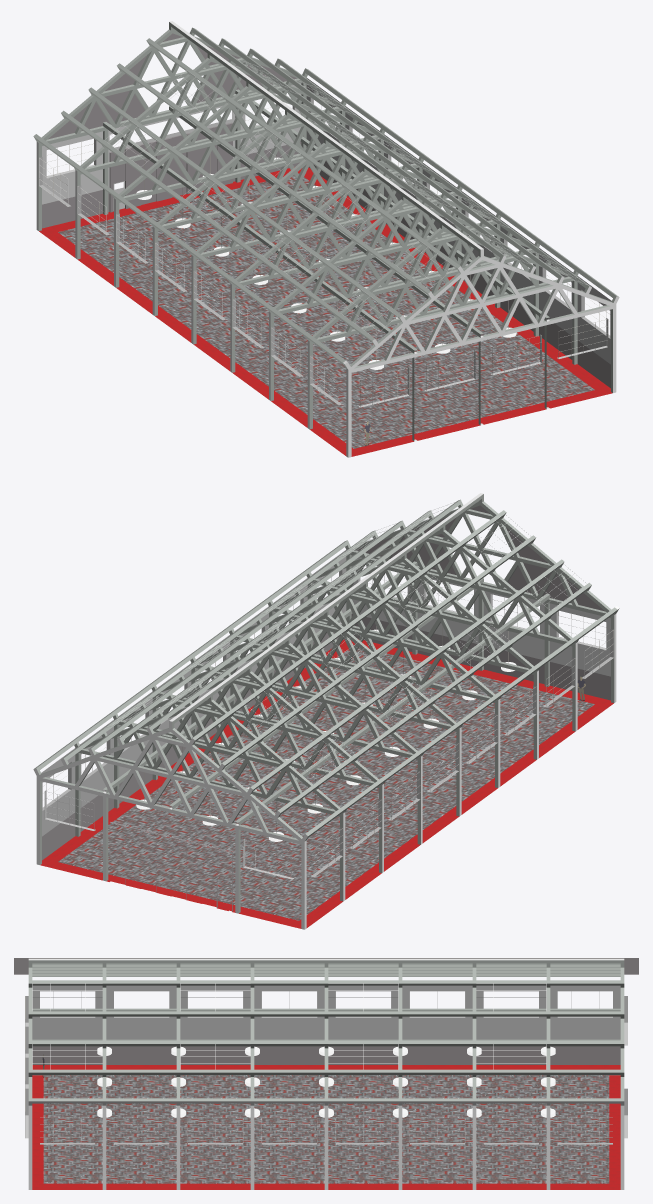
Rendered from plateforme0010.glb.
3 views of the same model, one above another, from view 1: azimuth 30°, elevation 25°; view 2: azimuth 150°, elevation 25°; view 3: azimuth 270°, elevation 25° (orthographic). The views are drawn at different scales.
Visible parts, largest first — view 1: Material2 (×9), Material3; view 2: Material2 (×9), Material3; view 3: Material2 (×9).
Part boxes in pixels (bbox=[...]): Material2 (×9): bbox=[33, 21, 619, 457]; Material3: bbox=[39, 96, 609, 407]; Material2 (×9): bbox=[33, 493, 619, 929]; Material3: bbox=[43, 609, 613, 874]; Material2 (×9): bbox=[14, 958, 638, 1189].
Bounding box in the file's own units: 35.01 × 19.92 × 66.54.
Materials: 15 (2 with a texture image).
